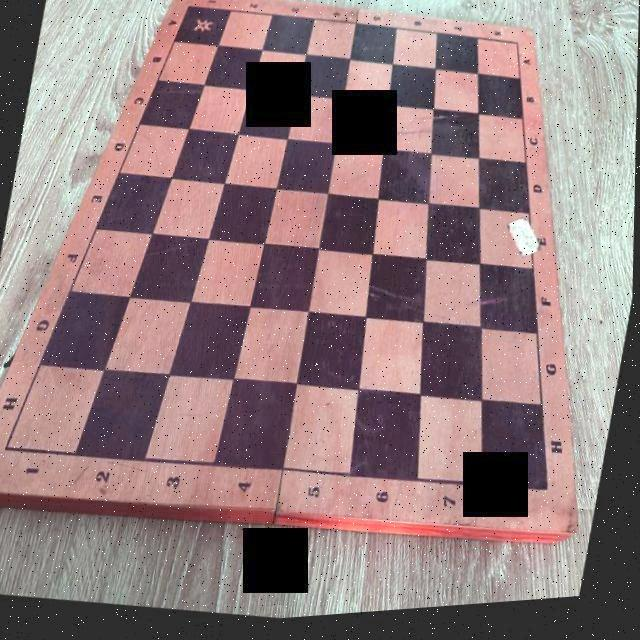chess-table-corners: (0, 432, 21, 464), (510, 40, 526, 60), (542, 488, 556, 508), (182, 4, 195, 16)
